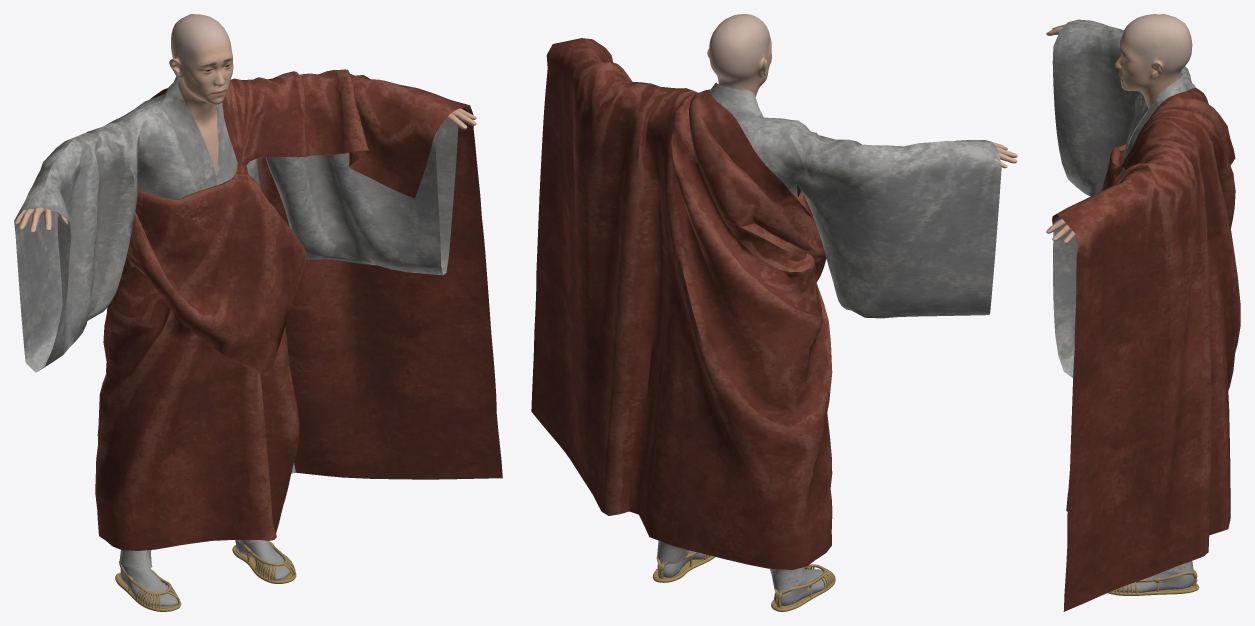
Rendered from nm_monk.glb.
3 renders of one model, left to right at view 1: azimuth 30°, elevation 25°; view 2: azimuth 150°, elevation 25°; view 3: azimuth 270°, elevation 25°, orthographic. The views are drawn at different scales.
Parts seen in each view (by area): view 1: upper001_upper_0; view 2: upper001_upper_0; view 3: upper001_upper_0.
Part boxes in pixels (left/top/right/bottom): upper001_upper_0: left=14, top=14, right=502, bottom=611; upper001_upper_0: left=531, top=14, right=1017, bottom=611; upper001_upper_0: left=1046, top=14, right=1240, bottom=611.
Bounding box in the file's own units: 1.63 × 1.8 × 0.5837.
Materials: 7 (5 with a texture image).
